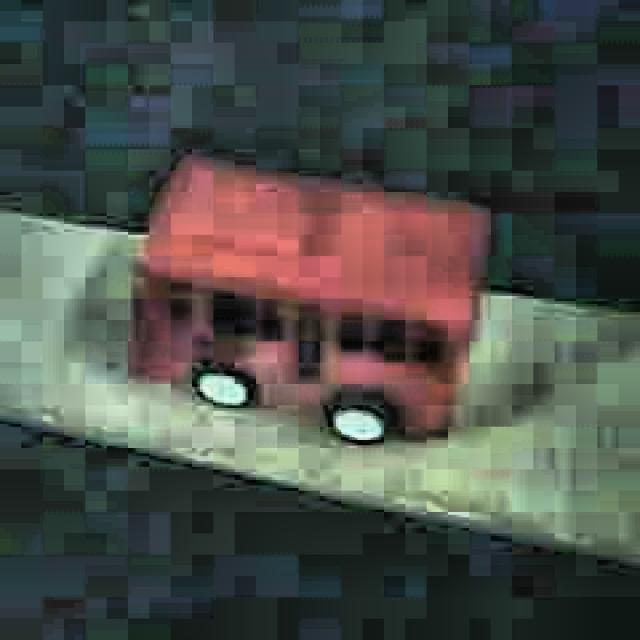bus: (123, 156, 487, 448)
